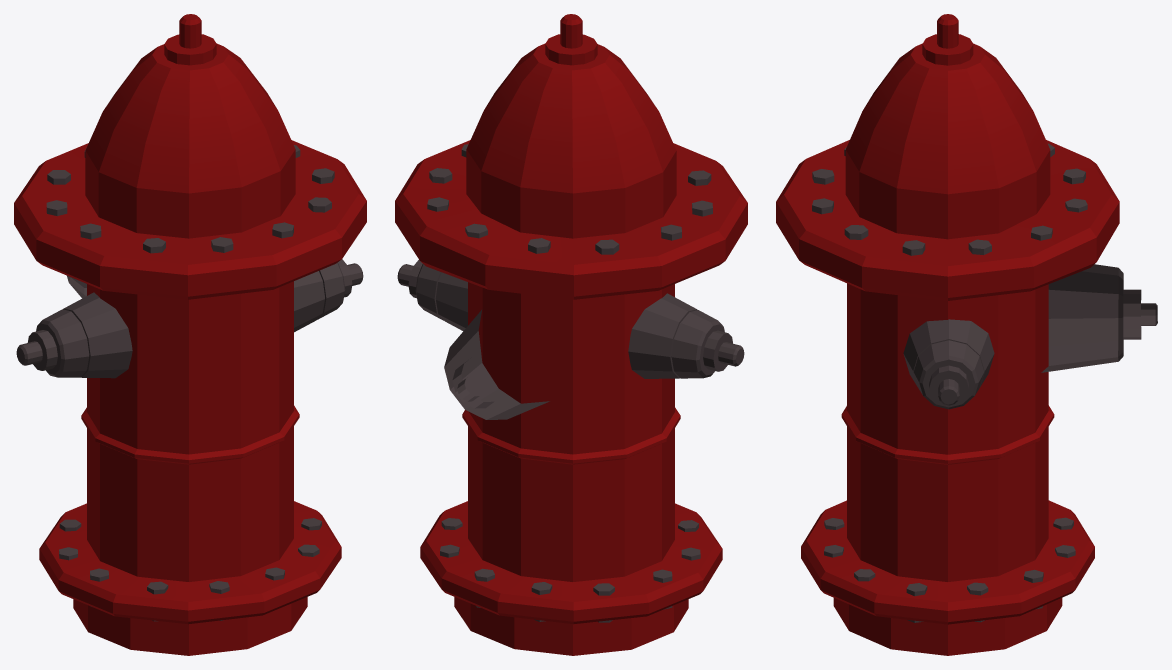
File: fire Hydrant.fbx
3 renders of one model, left to right at view 1: azimuth 30°, elevation 25°; view 2: azimuth 150°, elevation 25°; view 3: azimuth 270°, elevation 25°, orthographic.
Parts seen in each view (by area): view 1: Circle; view 2: Circle; view 3: Circle.
Boxes of the visible parts, x1,y1,x2,y2 form: Circle: [14, 14, 366, 655]; Circle: [395, 14, 747, 655]; Circle: [776, 14, 1157, 655].
Size of the model in its own units: 67.08 by 112 by 65.67.
